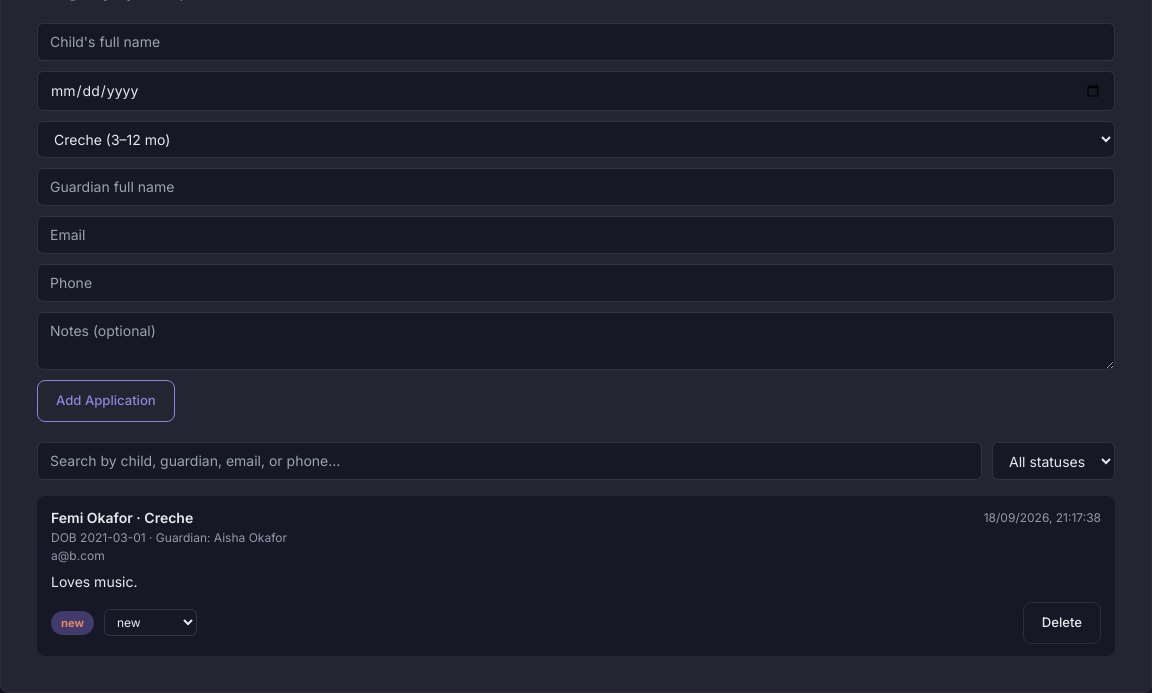
Scenario: AdminApplicationsPanel › deletes an application via the delete button
(page scrolled)
Expected: the text "Femi Okafor · Creche" is shown, x1=51 y1=508 x2=193 y2=528
Click the button "Delete" at [1062, 623], box x1=1023 y1=602 x2=1101 y2=644
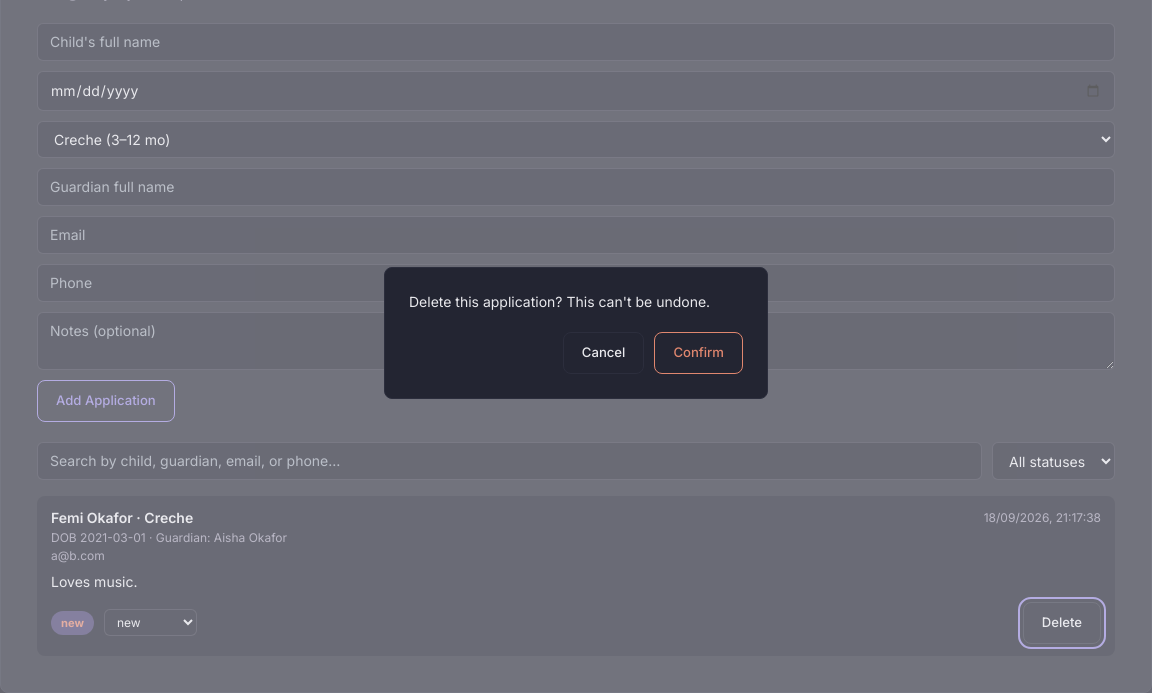
Click the button "Confirm" at [699, 353], box x1=654 y1=332 x2=743 y2=374
(page scrolled)
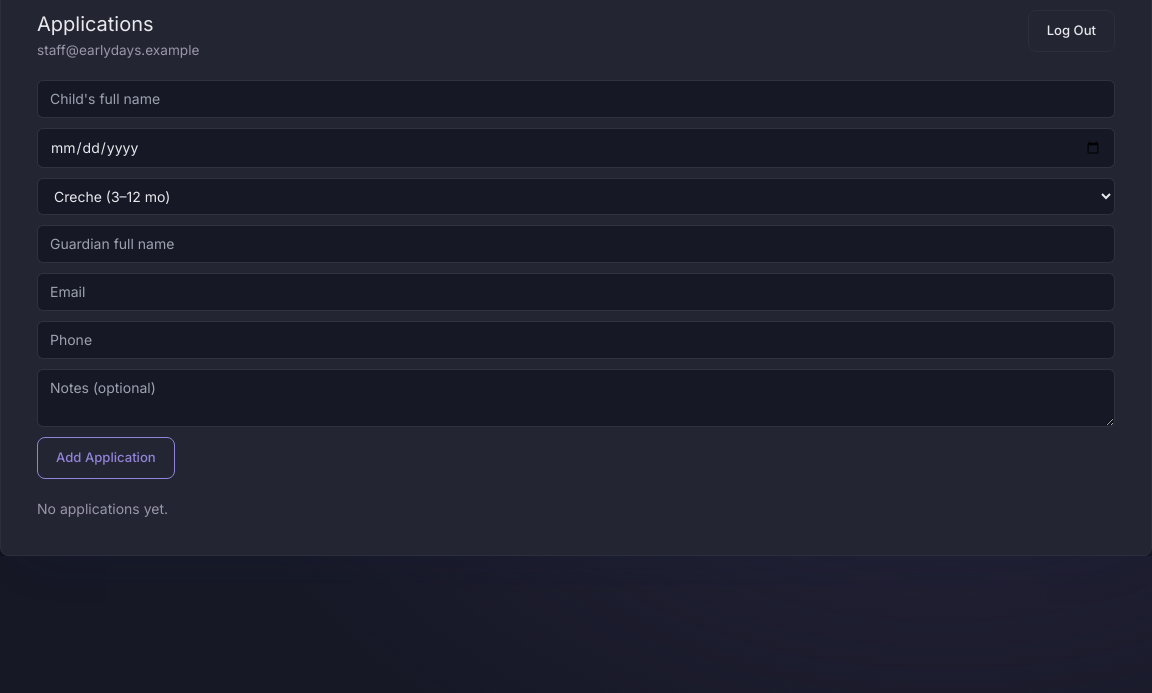
Now the text "Femi Okafor" is gone
